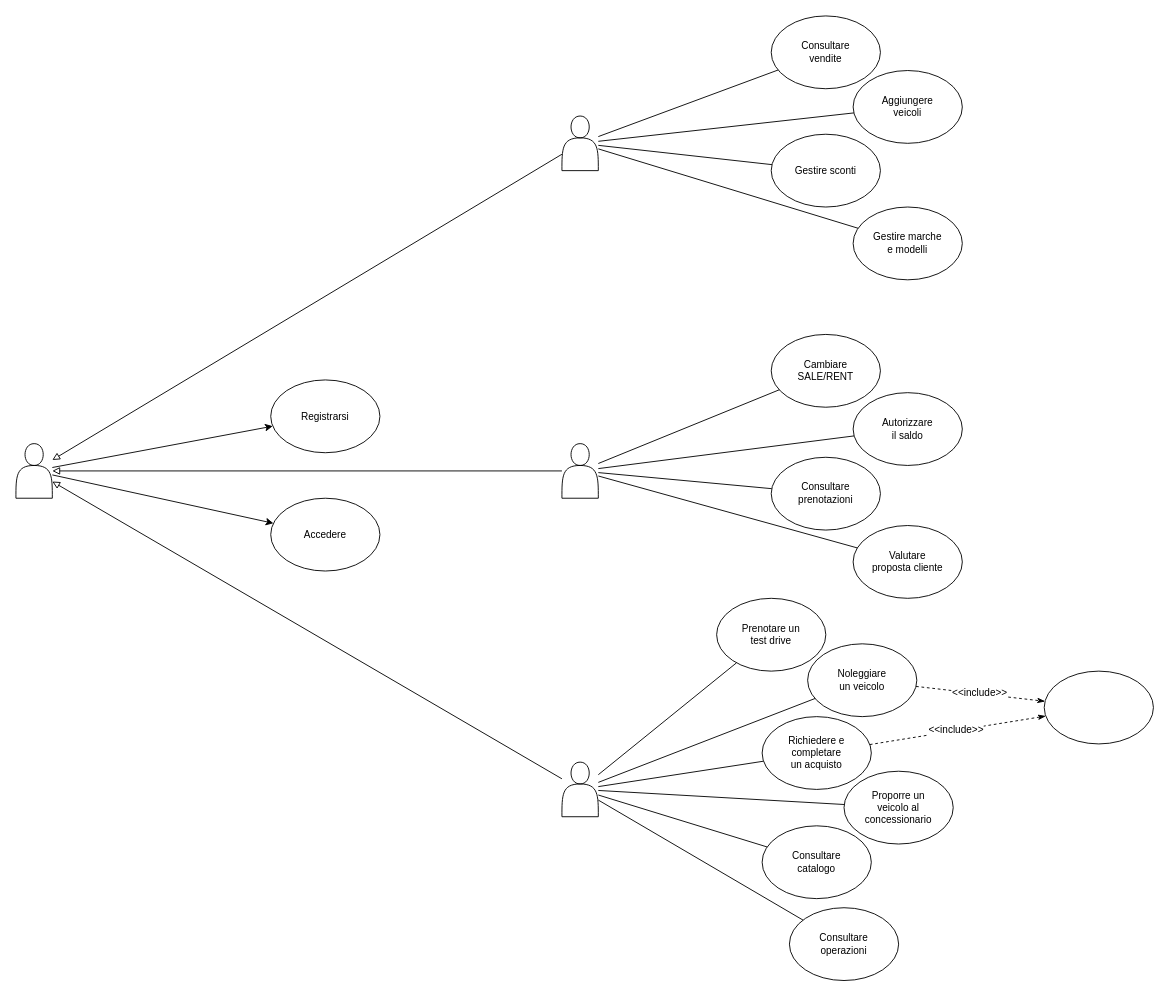
The diagram is 1169 pixels wide and 996 high, and some of its shapes have lost their labels. The shapes that lost their labels are listed below. From the top down, each one's centre as x and y in pixels, then its label:
At point (579, 143): "Manager".
At point (33, 470): "User".
At point (579, 470): "Salesman".
At point (1098, 707): "Addebitare conto demo".
At point (579, 789): "Customer".
